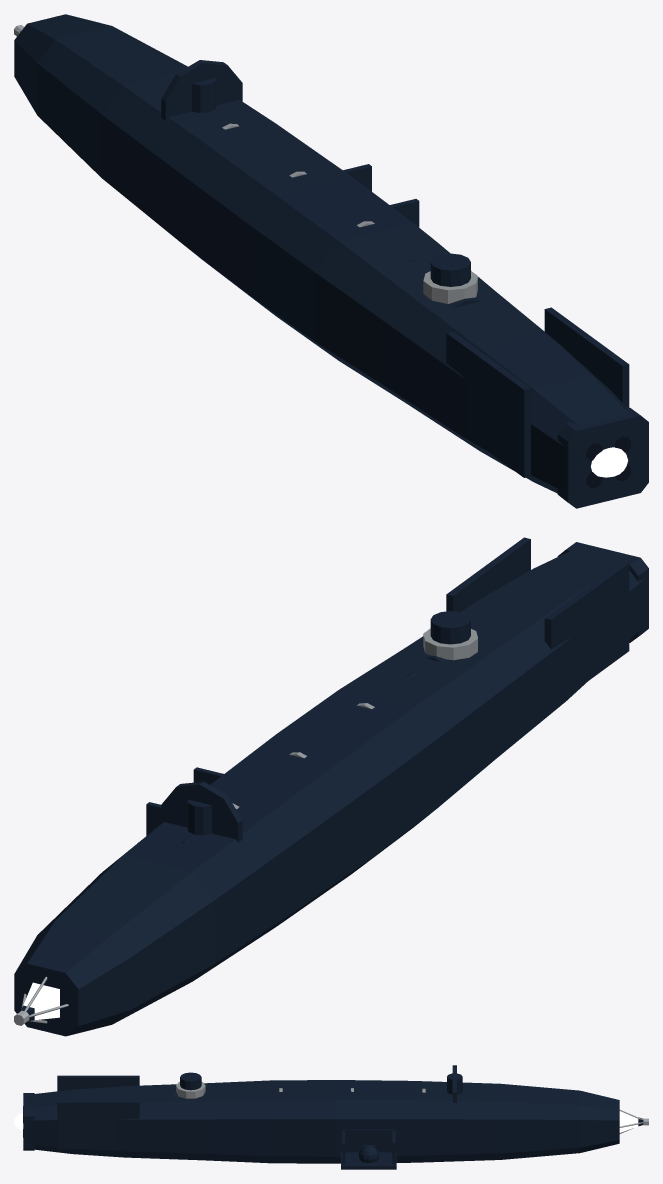
3 views of the same model, one above another, from view 1: azimuth 30°, elevation 25°; view 2: azimuth 150°, elevation 25°; view 3: azimuth 270°, elevation 25° (orthographic). The views are drawn at different scales.
Parts seen in each view (by area): view 1: RIMWARD_HULL, RIMWARD_ENGINE_GLOW; view 2: RIMWARD_HULL, RIMWARD_EMISSIVE; view 3: RIMWARD_HULL, RIMWARD_EMISSIVE.
Part boxes in pixels (x1=…): RIMWARD_HULL: x1=14, y1=14, x2=648, y2=508; RIMWARD_ENGINE_GLOW: x1=591, y1=447, x2=628, y2=477; RIMWARD_HULL: x1=14, y1=537, x2=648, y2=1036; RIMWARD_EMISSIVE: x1=23, y1=982, x2=59, y2=1020; RIMWARD_HULL: x1=23, y1=1065, x2=648, y2=1169; RIMWARD_EMISSIVE: x1=619, y1=1111, x2=638, y2=1132.
Bounding box in the file's own units: 5.38 × 4.75 × 30.8.
